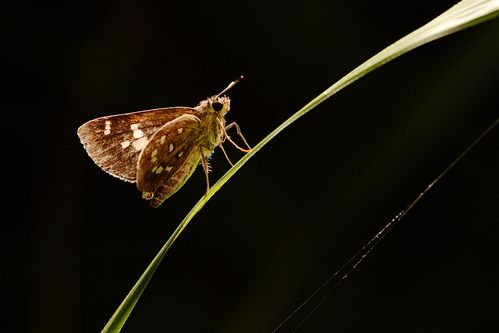Hesperiidae: (73, 74, 254, 207)
